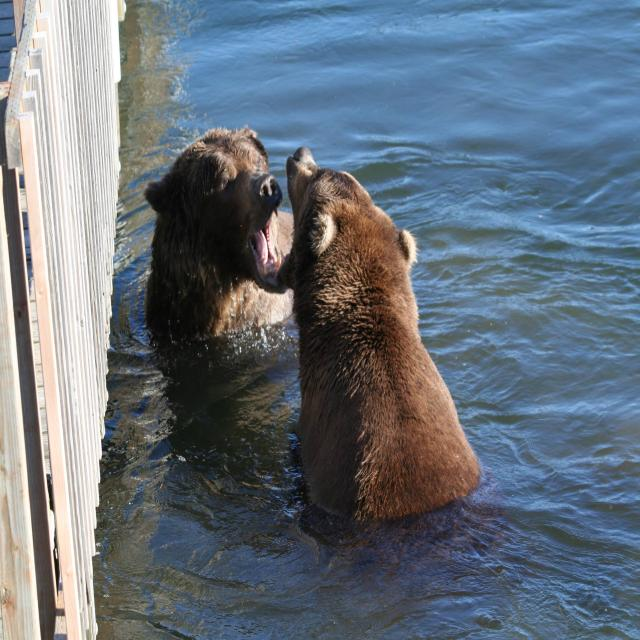bear face: (285, 147, 481, 494), (143, 123, 282, 329)
